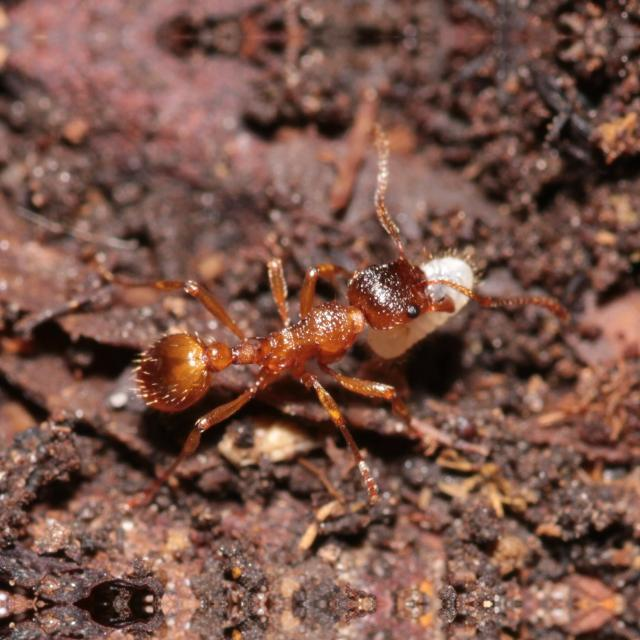Myrmica: (102, 193, 512, 465)
